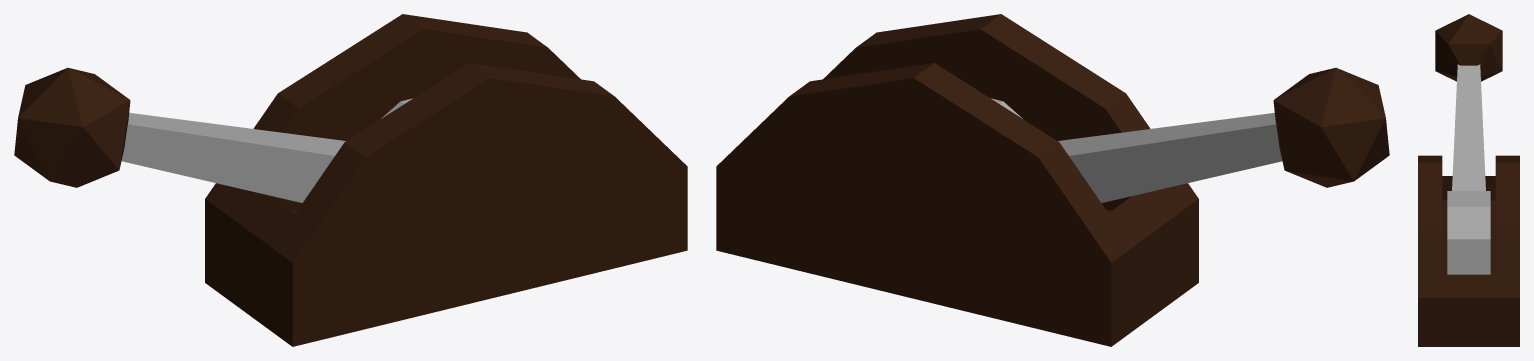
The model's file is Lever_ON.glb.
3 renders of one model, left to right at view 1: azimuth 30°, elevation 25°; view 2: azimuth 150°, elevation 25°; view 3: azimuth 270°, elevation 25°, orthographic. The views are drawn at different scales.
Parts seen in each view (by area): view 1: Lever_ON; view 2: Lever_ON; view 3: Lever_ON.
Part boxes in pixels (<box>): Lever_ON: <box>14,14,687,346</box>; Lever_ON: <box>716,14,1389,346</box>; Lever_ON: <box>1418,14,1519,346</box>.
Bounding box in the file's own units: 0.32 × 0.1424 × 0.0775.
